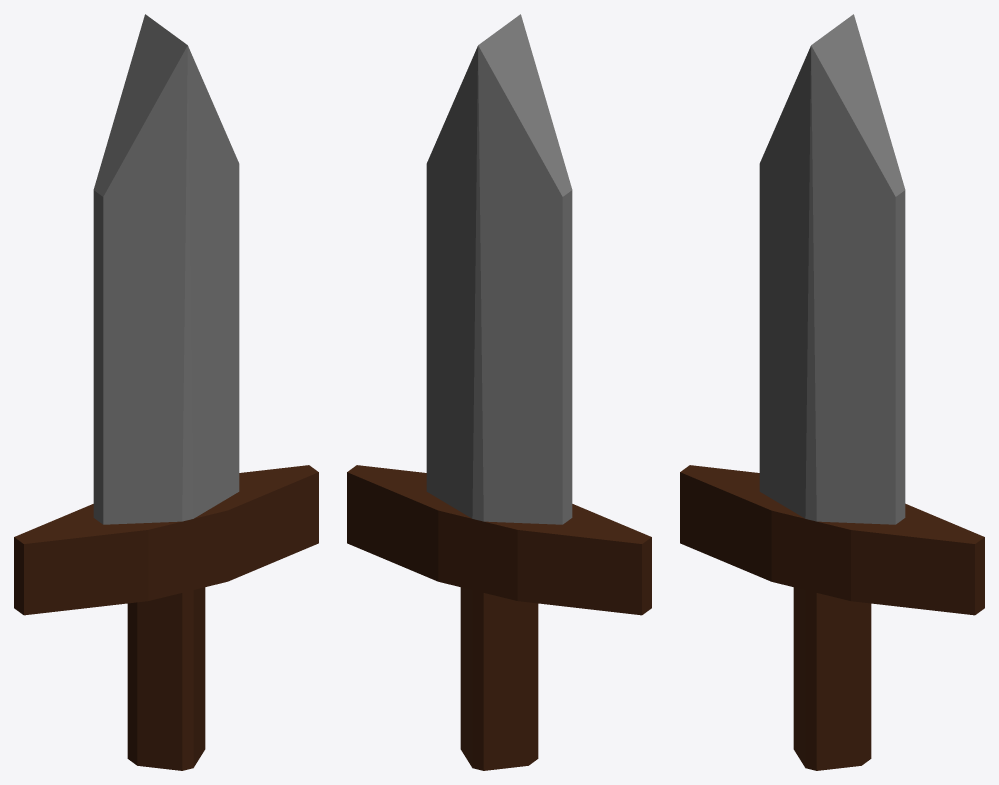
Rendered from Schiavone-Sword.fbx.
The picture shows the model from 3 angles, left to right: view 1: azimuth 30°, elevation 25°; view 2: azimuth 150°, elevation 25°; view 3: azimuth 330°, elevation 25°; orthographic projection.
Parts seen in each view (by area): view 1: sword; view 2: sword; view 3: sword.
Part boxes in pixels (left/top/right/bottom): sword: left=14, top=14, right=318, bottom=770; sword: left=347, top=14, right=651, bottom=770; sword: left=680, top=14, right=984, bottom=770.
Bounding box in the file's own units: 25.59 × 6.42 × 60.04.
